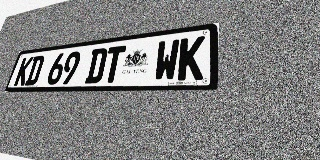6: (46, 52, 68, 85)
9: (59, 51, 82, 84)
D: (84, 47, 108, 83), (24, 55, 45, 85)
K: (177, 36, 205, 81), (13, 57, 34, 86)
T: (101, 45, 126, 83)
W: (153, 39, 180, 81)
